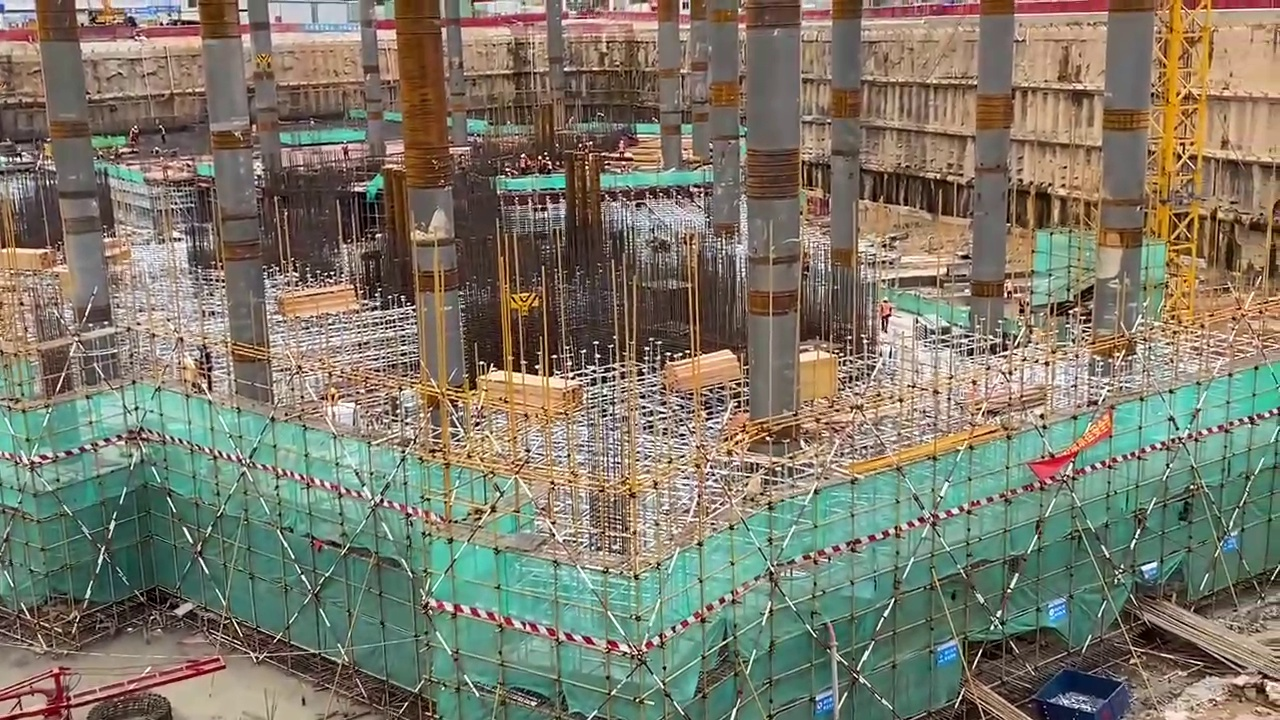hook: (509, 290, 541, 312)
hopper: (1030, 666, 1136, 719)
person: (875, 293, 894, 335)
wood: (475, 368, 581, 411), (661, 350, 748, 392), (280, 286, 352, 315), (5, 246, 57, 272)
